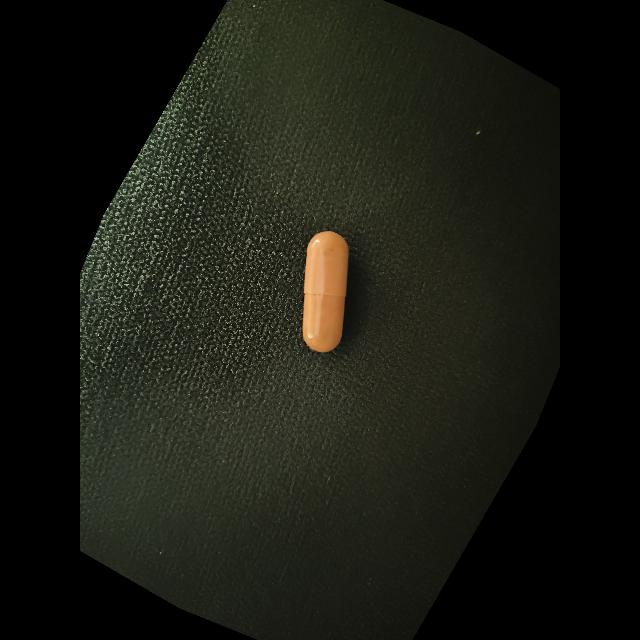Intact Capsule: (302, 231, 349, 352)
